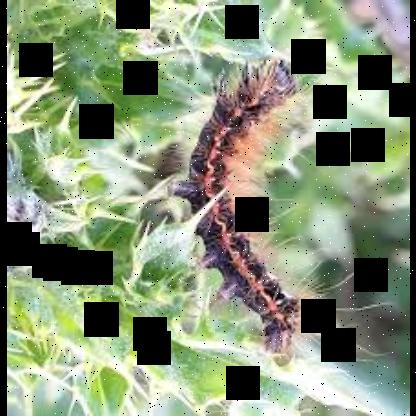oruga: (182, 50, 309, 366)
